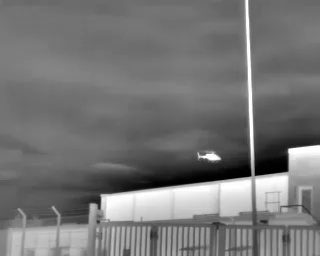HELICOPTER: (191, 144, 228, 168)
